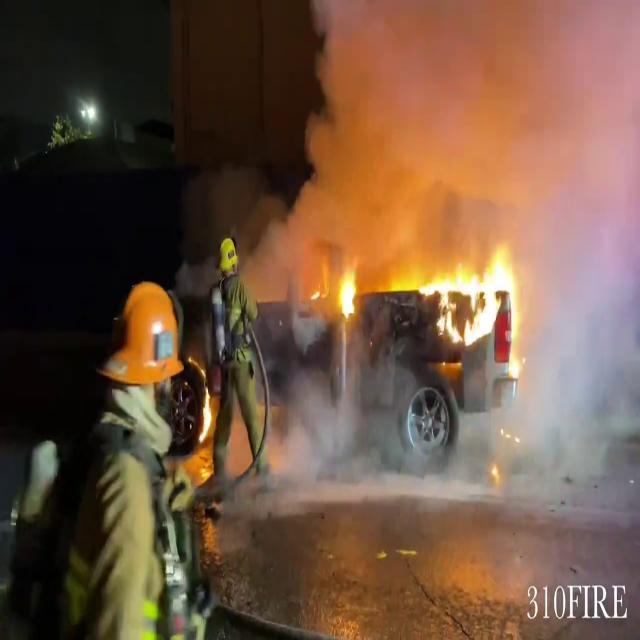Fire: (419, 242, 522, 364), (334, 264, 360, 325)
Smoke: (264, 1, 640, 263)
